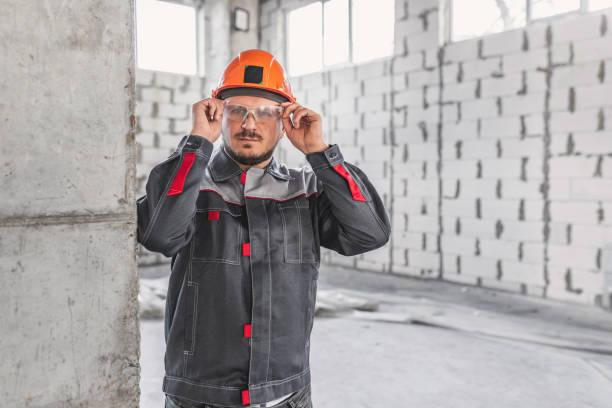goggle: (215, 96, 295, 128)
helmet: (204, 41, 301, 103)
vest: (136, 123, 397, 408)
